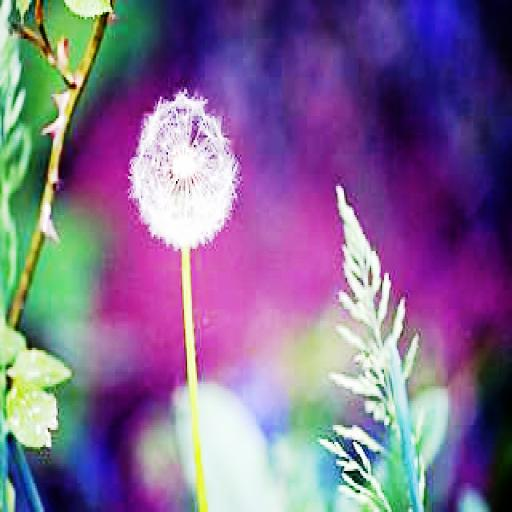dandelion: (132, 92, 238, 241)
